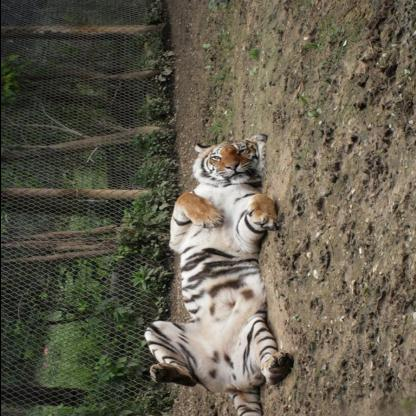tiger: (184, 125, 274, 191)
